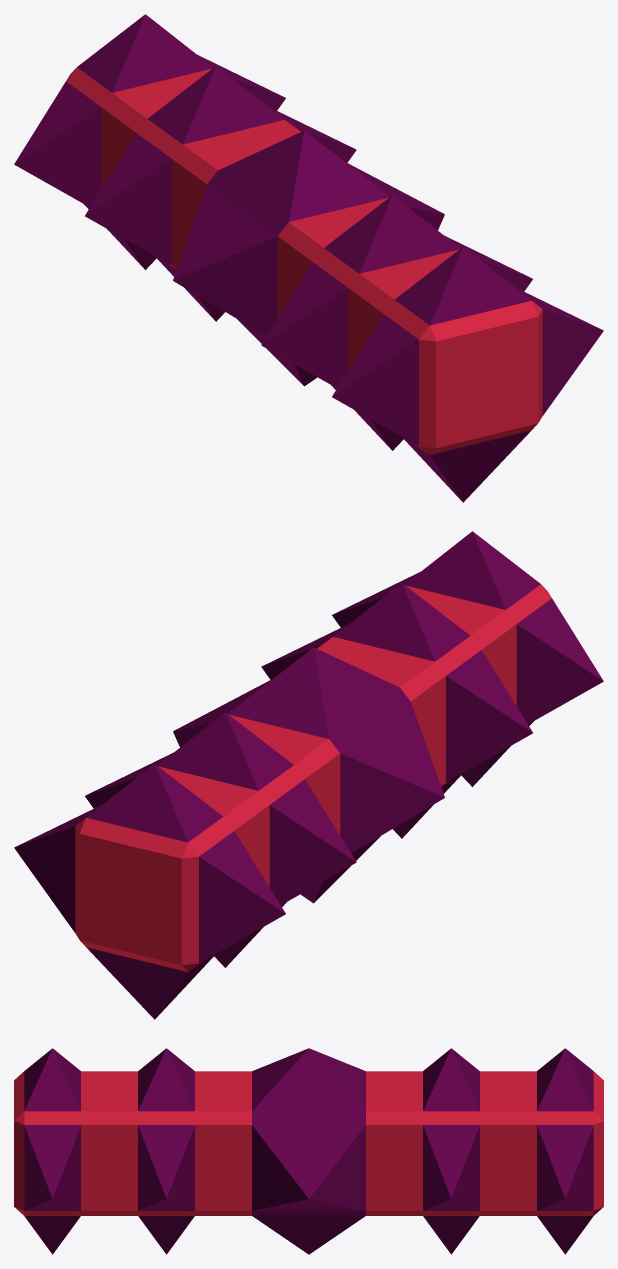
File: spike_trap.fbx
3 views of the same model, one above another, from view 1: azimuth 30°, elevation 25°; view 2: azimuth 150°, elevation 25°; view 3: azimuth 270°, elevation 25° (orthographic). The views are drawn at different scales.
Visible parts, largest first — view 1: Cube; view 2: Cube; view 3: Cube.
Boxes of the visible parts, left/top/right/bottom form: Cube: left=14, top=14, right=603, bottom=502; Cube: left=14, top=531, right=603, bottom=1019; Cube: left=14, top=1048, right=603, bottom=1254.
Bounding box in the file's own units: 440 × 395 × 1023.
